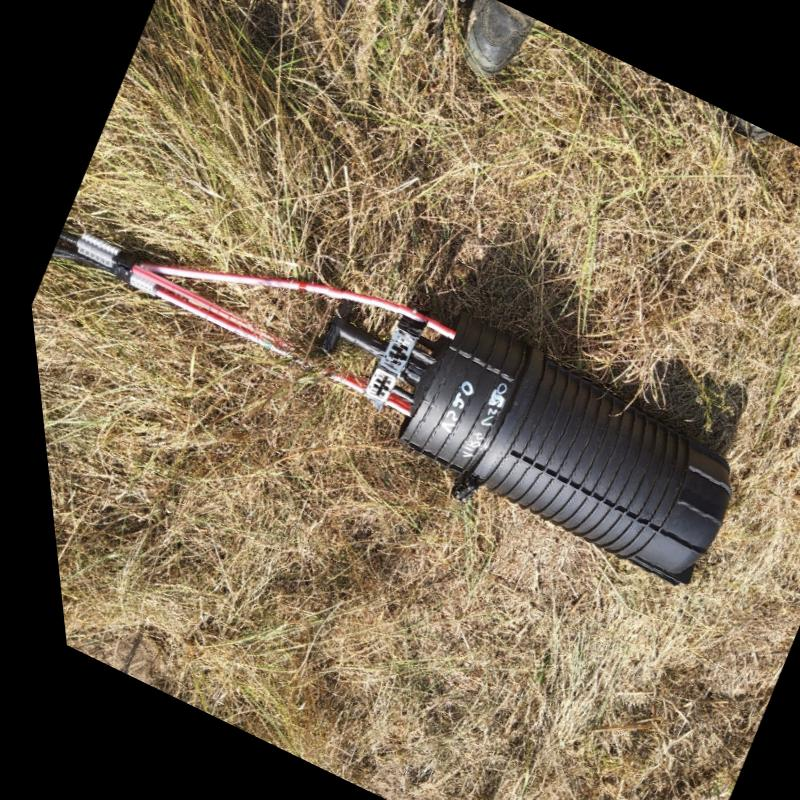NT-Muffen: (291, 295, 726, 594)
